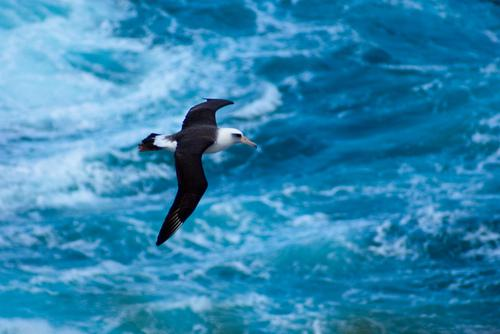002.Laysan_Albatross: (134, 97, 256, 247)
